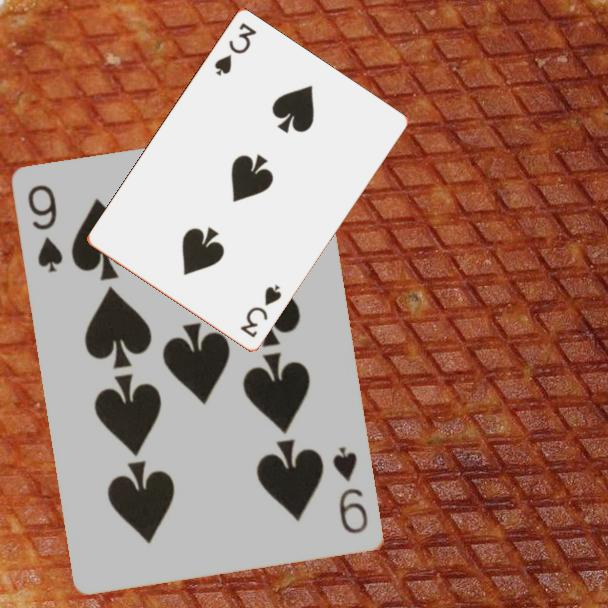s03: (211, 19, 260, 79), (237, 281, 285, 341)
s09: (329, 443, 372, 537), (24, 181, 66, 276)
